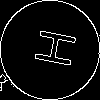H: (25, 25, 77, 70)
